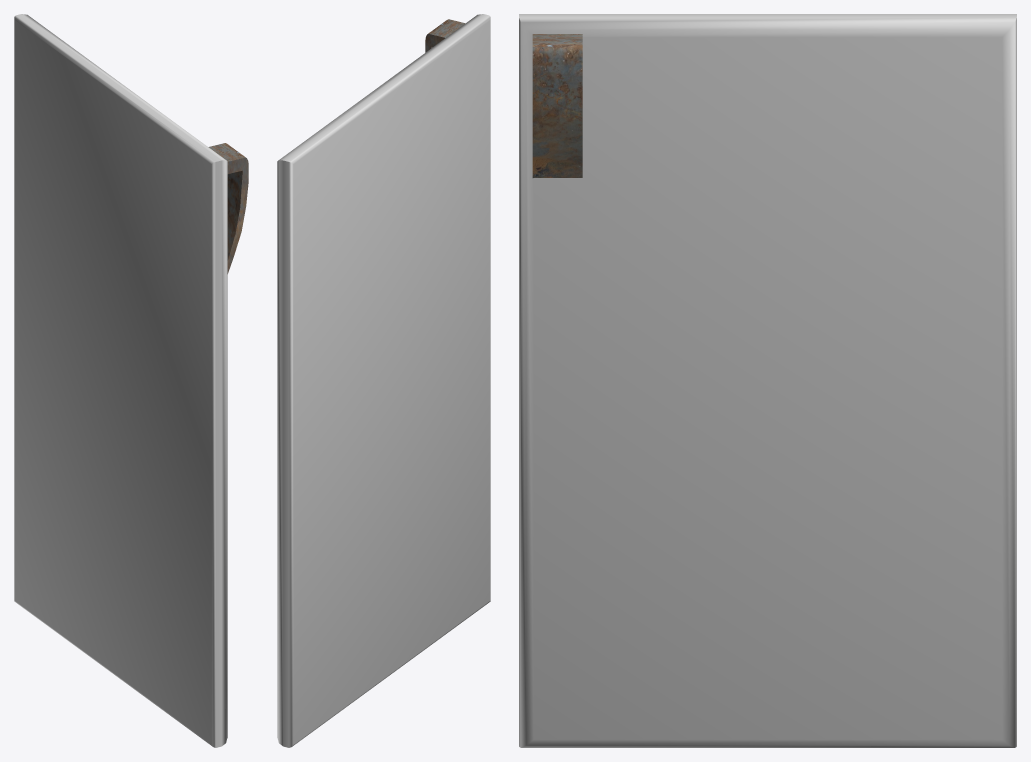
File: HeladeraPuertaDeAbajo2.fbx
The picture shows the model from 3 angles, left to right: view 1: azimuth 30°, elevation 25°; view 2: azimuth 150°, elevation 25°; view 3: azimuth 270°, elevation 25°; orthographic projection. The views are drawn at different scales.
Visible parts, largest first — view 1: Cube.004; view 2: Cube.004; view 3: Cube.004.
Part boxes in pixels (bbox=[...]): Cube.004: bbox=[14, 14, 248, 747]; Cube.004: bbox=[277, 14, 490, 747]; Cube.004: bbox=[519, 14, 1016, 747].
Bounding box in the file's own units: 15.15 × 206 × 127.
2 materials, 1 textured.
